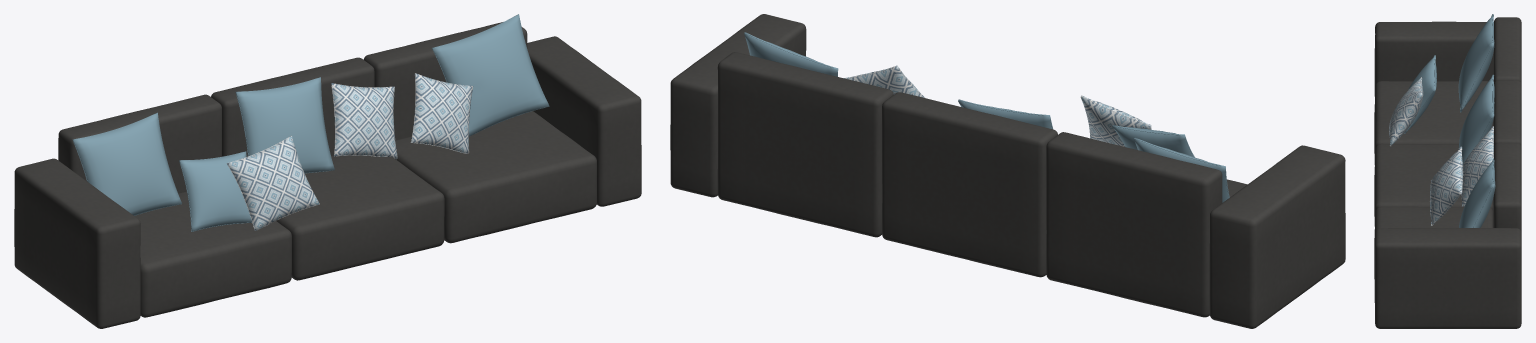
Rendered from stanza-modular-01-mobile.glb.
3 renders of one model, left to right at view 1: azimuth 30°, elevation 25°; view 2: azimuth 150°, elevation 25°; view 3: azimuth 270°, elevation 25°, orthographic. The views are drawn at different scales.
Visible parts, largest first — view 1: seat_block_3, arm_l, seat_block_2, seat_block_1, arm_r, pillow_7_cover, pillow_1_cover, back_block_1, pillow_4_cover, pillow_3_cover, back_block_2, pillow_5_cover (+3 smaller); view 2: back_block_1, back_block_2, back_block_3, arm_l, arm_r, pillow_3_cover, pillow_7_cover, pillow_2_cover, pillow_6_cover, pillow_1_cover, pillow_4_cover; view 3: arm_r, arm_l, seat_block_2, seat_block_1, back_block_3, seat_block_3, back_block_1, back_block_2, pillow_1_cover, pillow_6_cover, pillow_4_cover, pillow_7_cover (+3 smaller).
Part boxes in pixels (x1=…): seat_block_3: x1=395, y1=111, x2=596, y2=243; arm_l: x1=14, y1=158, x2=140, y2=328; seat_block_2: x1=276, y1=155, x2=444, y2=280; seat_block_1: x1=135, y1=191, x2=291, y2=317; arm_r: x1=527, y1=36, x2=641, y2=206; pillow_7_cover: x1=432, y1=14, x2=549, y2=136; pillow_1_cover: x1=72, y1=112, x2=181, y2=215; back_block_1: x1=58, y1=94, x2=221, y2=193; pillow_4_cover: x1=235, y1=77, x2=334, y2=173; pillow_3_cover: x1=227, y1=136, x2=319, y2=230; back_block_2: x1=211, y1=57, x2=374, y2=156; pillow_5_cover: x1=331, y1=83, x2=397, y2=158; back_block_1: x1=1046, y1=132, x2=1222, y2=317; back_block_2: x1=882, y1=92, x2=1057, y2=277; back_block_3: x1=717, y1=52, x2=893, y2=237; arm_l: x1=1209, y1=145, x2=1345, y2=328; arm_r: x1=670, y1=14, x2=806, y2=197; pillow_3_cover: x1=1080, y1=95, x2=1151, y2=146; pillow_7_cover: x1=744, y1=32, x2=838, y2=76; pillow_2_cover: x1=1112, y1=125, x2=1194, y2=157; pillow_6_cover: x1=843, y1=65, x2=924, y2=97; pillow_1_cover: x1=1134, y1=137, x2=1229, y2=202; pillow_4_cover: x1=958, y1=99, x2=1052, y2=128; arm_r: x1=1374, y1=228, x2=1521, y2=328; arm_l: x1=1374, y1=21, x2=1493, y2=97; seat_block_2: x1=1374, y1=143, x2=1493, y2=227; seat_block_1: x1=1374, y1=81, x2=1493, y2=164; back_block_3: x1=1493, y1=142, x2=1521, y2=251; seat_block_3: x1=1374, y1=206, x2=1493, y2=278; back_block_1: x1=1493, y1=17, x2=1521, y2=120; back_block_2: x1=1493, y1=80, x2=1521, y2=155; pillow_1_cover: x1=1458, y1=14, x2=1494, y2=112; pillow_6_cover: x1=1430, y1=146, x2=1463, y2=225; pillow_4_cover: x1=1458, y1=75, x2=1494, y2=164; pillow_7_cover: x1=1459, y1=159, x2=1495, y2=227.
Size of the model in its own units: 4.25 by 1.1 by 1.18.
5 materials, 2 textured.
